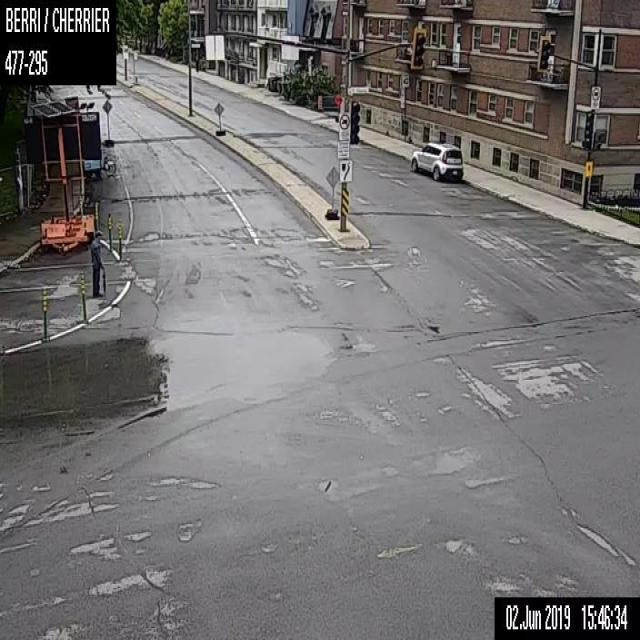construction: (23, 95, 101, 255), (326, 164, 338, 219), (101, 98, 114, 146), (213, 101, 225, 135), (79, 271, 86, 320), (42, 283, 47, 337), (117, 219, 123, 260), (334, 93, 342, 121), (107, 215, 112, 252), (318, 94, 322, 110)
pedestrian: (90, 231, 105, 296)
vehicle: (409, 141, 463, 180)
